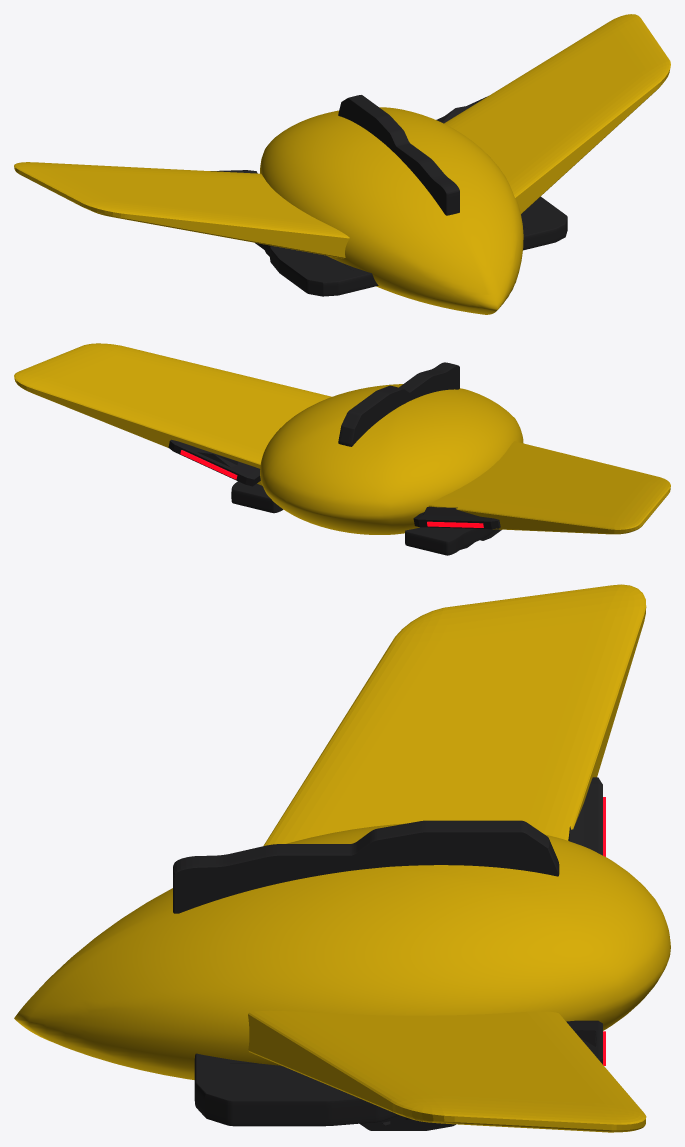
File: Ship05.fbx
3 views of the same model, one above another, from view 1: azimuth 30°, elevation 25°; view 2: azimuth 150°, elevation 25°; view 3: azimuth 270°, elevation 25° (orthographic). The views are drawn at different scales.
Visible parts, largest first — view 1: Body.001; view 2: Body.001; view 3: Body.001.
Boxes of the visible parts, x1,y1,x2,y2 form: Body.001: (14, 14, 670, 314); Body.001: (14, 343, 670, 555); Body.001: (14, 584, 670, 1132).
Size of the model in its own units: 185 by 38.01 by 95.02.
